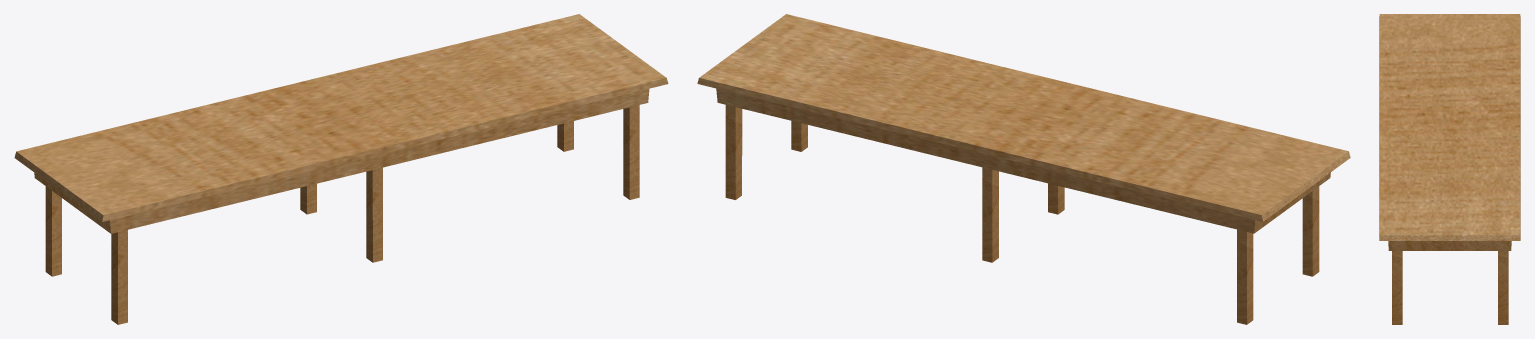
The model's file is TableLong.fbx.
3 views of the same model, side by side, from view 1: azimuth 30°, elevation 25°; view 2: azimuth 150°, elevation 25°; view 3: azimuth 270°, elevation 25° (orthographic). The views are drawn at different scales.
Visible parts, largest first — view 1: TableLong; view 2: TableLong; view 3: TableLong.
Boxes of the visible parts, bbox=[...] form: TableLong: bbox=[14, 14, 668, 324]; TableLong: bbox=[697, 14, 1350, 324]; TableLong: bbox=[1379, 14, 1520, 324].
Size of the model in its own units: 5.23 by 1.06 by 1.4.
